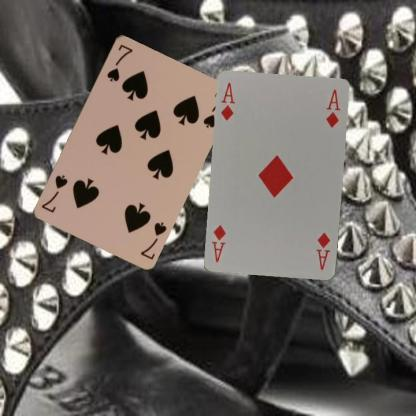7s: (104, 41, 134, 83), (138, 218, 168, 260)
Ad: (218, 80, 237, 122), (314, 230, 332, 272)
